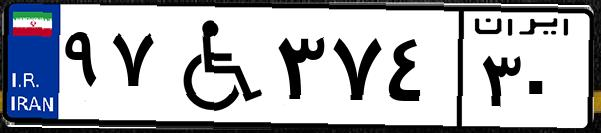0: (525, 38, 570, 115)
3: (270, 28, 330, 110), (475, 38, 525, 113)
4: (385, 28, 445, 110)
7: (330, 28, 385, 110), (110, 28, 158, 98)
9: (57, 26, 110, 100)
ژ (معلولین و جانبازان): (158, 12, 270, 120)
